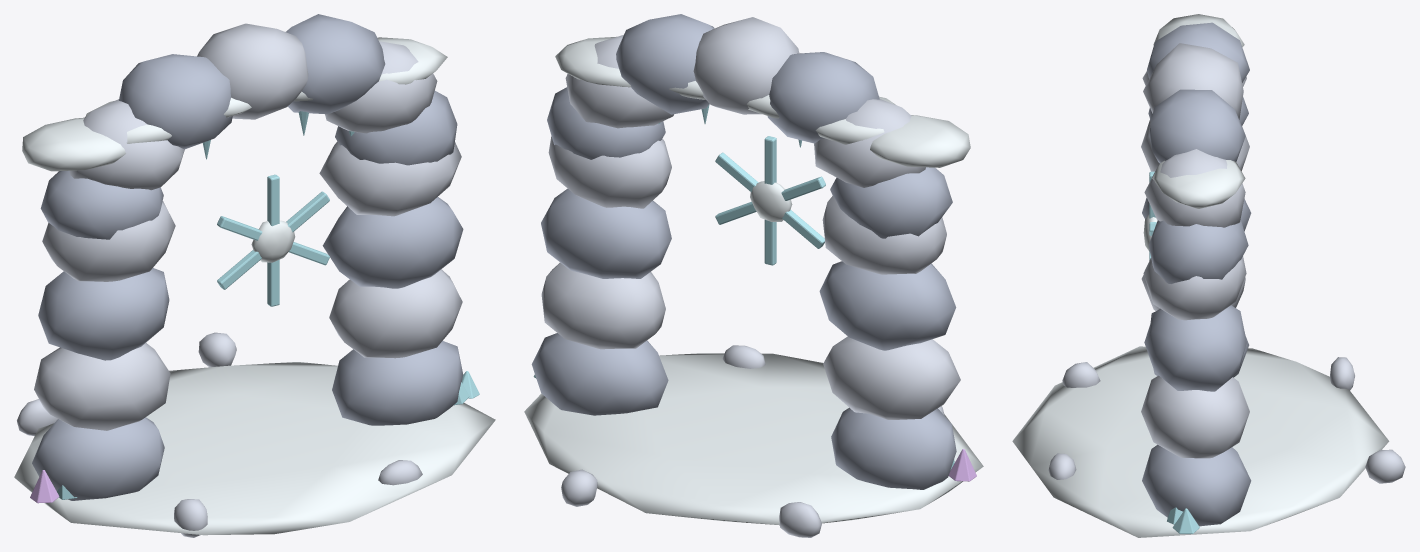
File: northern_pass_arch.glb
3 views of the same model, side by side, from view 1: azimuth 30°, elevation 25°; view 2: azimuth 150°, elevation 25°; view 3: azimuth 270°, elevation 25° (orthographic). The views are drawn at different scales.
Visible parts, largest first — view 1: northern_pass_arch.001; view 2: northern_pass_arch.001; view 3: northern_pass_arch.001.
Boxes of the visible parts, bbox=[...] form: northern_pass_arch.001: bbox=[14, 14, 495, 537]; northern_pass_arch.001: bbox=[524, 14, 983, 537]; northern_pass_arch.001: bbox=[1012, 14, 1405, 537].
Size of the model in its own units: 10.49 by 9.82 by 8.7.
